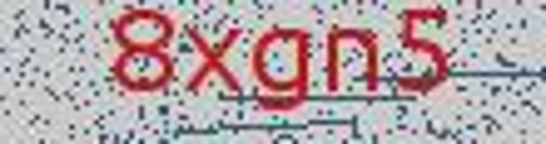5: (389, 1, 460, 113)
8: (107, 1, 180, 112)
g: (247, 13, 320, 131)
n: (317, 14, 386, 112)
x: (181, 12, 249, 121)
